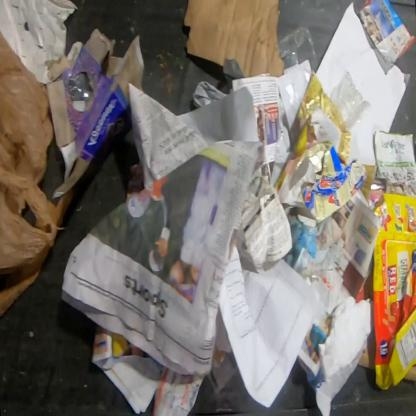cardboard: (44, 29, 146, 200), (366, 189, 416, 390), (182, 0, 285, 78), (293, 142, 367, 223), (358, 331, 375, 370), (360, 165, 378, 200)
rigid_plastic: (278, 26, 318, 128)
soft_plastic: (0, 30, 58, 276), (329, 72, 372, 130)
